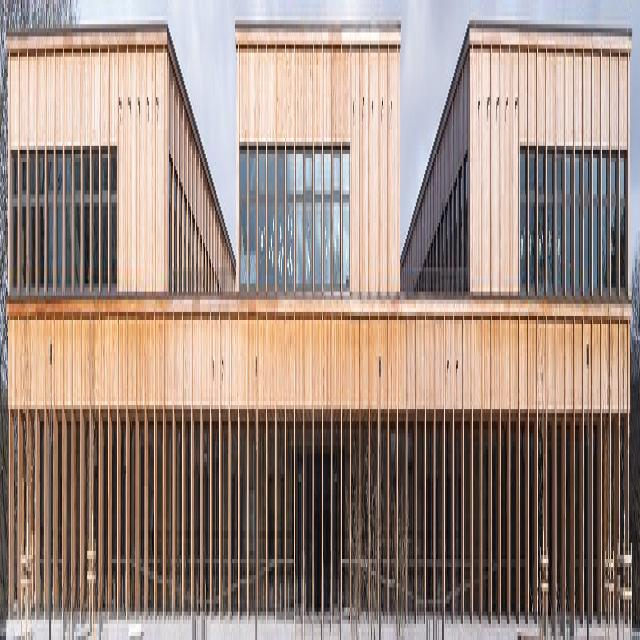window: (101, 153, 108, 294), (92, 154, 99, 295), (82, 157, 89, 298), (73, 156, 80, 297), (64, 157, 71, 298), (56, 159, 63, 300), (37, 160, 44, 301), (28, 163, 35, 304), (9, 163, 16, 304), (258, 156, 265, 297), (249, 156, 256, 297), (240, 157, 247, 298), (324, 154, 331, 295), (334, 155, 341, 296), (519, 157, 526, 298), (602, 162, 609, 303), (620, 165, 627, 306), (275, 154, 282, 294), (557, 153, 563, 310), (584, 160, 590, 308), (529, 154, 535, 298), (566, 156, 572, 300), (111, 153, 117, 294), (47, 159, 53, 300), (19, 162, 25, 303), (315, 154, 321, 295), (305, 157, 311, 298), (285, 154, 291, 295), (267, 154, 273, 295), (343, 153, 349, 294), (538, 155, 544, 296), (611, 165, 617, 306), (295, 152, 301, 292), (575, 162, 581, 298), (548, 155, 553, 298), (594, 160, 598, 308)
